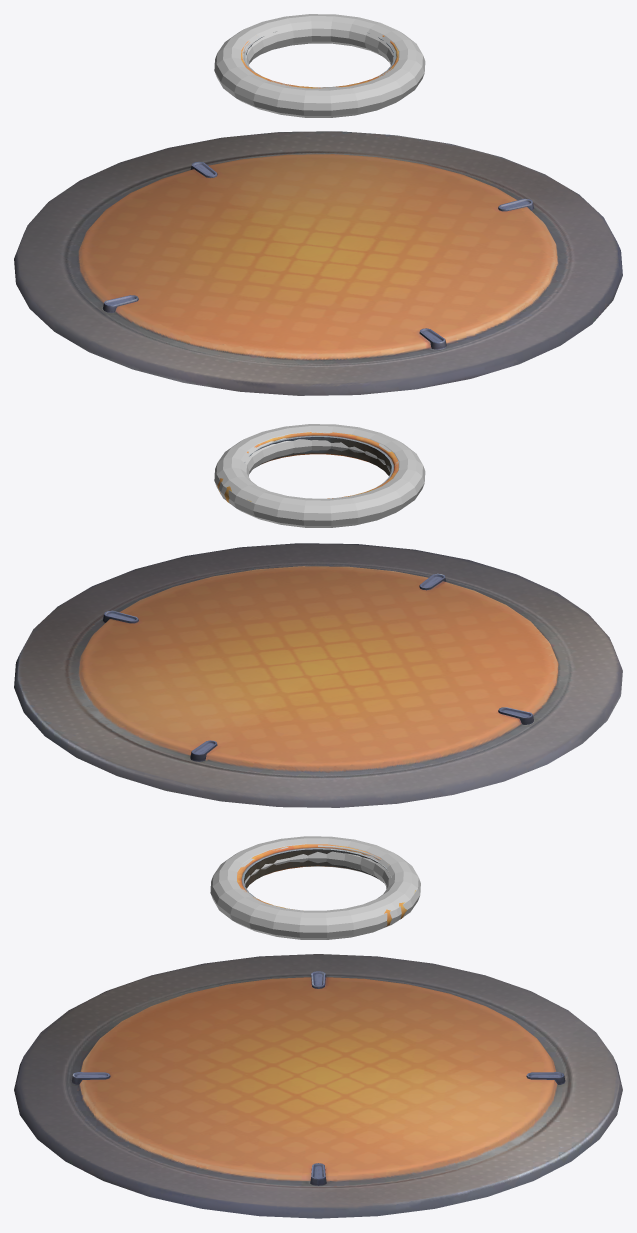
The model's file is pref_TPC_v2_NeutralScoreArea03_orange_interfere_lv1.fbx.
3 renders of one model, top to bottom at view 1: azimuth 30°, elevation 25°; view 2: azimuth 150°, elevation 25°; view 3: azimuth 270°, elevation 25°, orthographic.
Parts seen in each view (by area): view 1: sm_prop_platform06a_lv1, sm_fx_0037_ring_04_xz (3), sm_prop_platform06b_lv1; view 2: sm_prop_platform06a_lv1, sm_fx_0037_ring_04_xz (3), sm_prop_platform06b_lv1; view 3: sm_prop_platform06a_lv1, sm_fx_0037_ring_04_xz (3), sm_prop_platform06b_lv1.
Part boxes in pixels (box(x1,y1,x2,y2)): sm_prop_platform06a_lv1: box(14, 131, 622, 395); sm_fx_0037_ring_04_xz (3): box(214, 14, 425, 117); sm_prop_platform06b_lv1: box(241, 31, 398, 88); sm_prop_platform06a_lv1: box(14, 543, 622, 807); sm_fx_0037_ring_04_xz (3): box(214, 424, 425, 527); sm_prop_platform06b_lv1: box(217, 432, 398, 502); sm_prop_platform06a_lv1: box(14, 954, 622, 1218); sm_fx_0037_ring_04_xz (3): box(210, 836, 420, 939); sm_prop_platform06b_lv1: box(237, 844, 415, 926).
Size of the model in its own units: 7.46 by 2.9 by 7.46.
